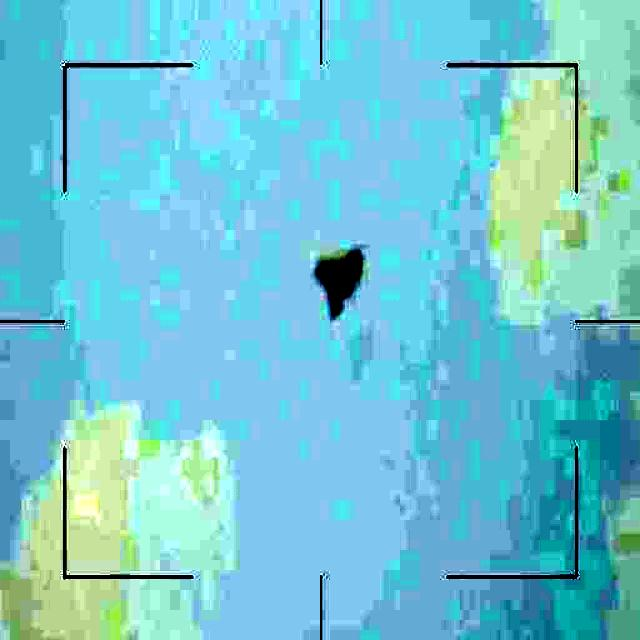bird: (311, 249, 361, 312)
